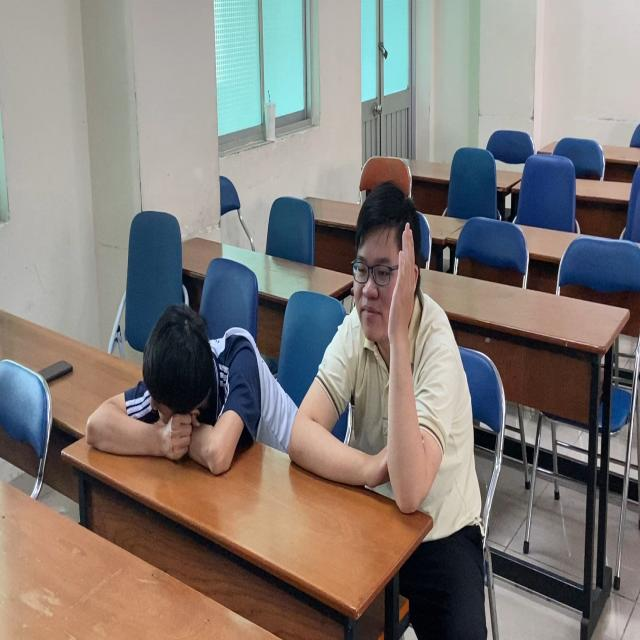raise_hand: (285, 175, 495, 535)
sleep: (82, 305, 288, 482)
